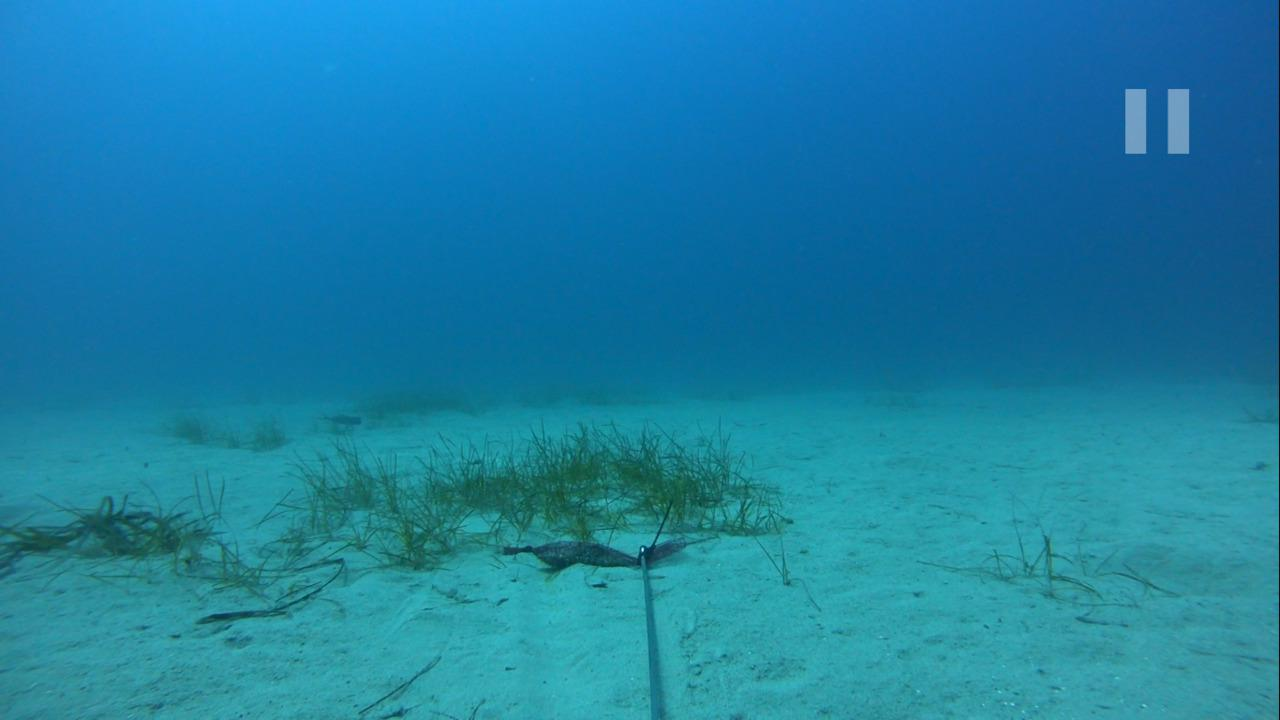dactylopterus: (304, 409, 367, 433)
